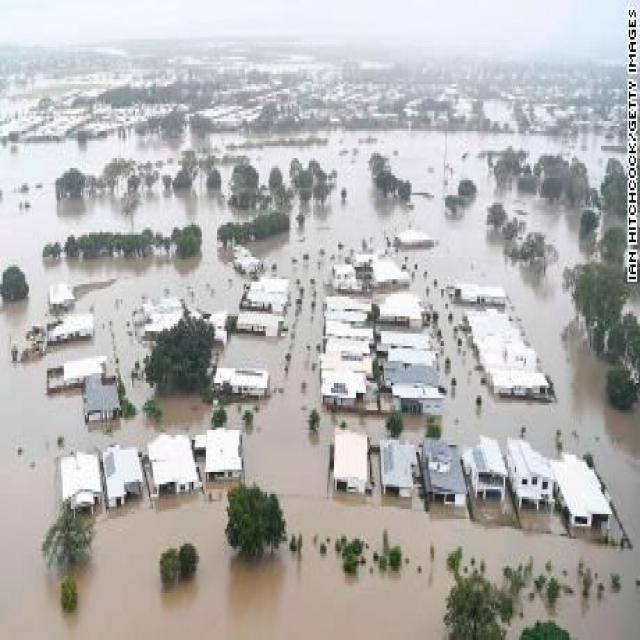flood: (0, 182, 640, 640), (0, 130, 625, 360), (323, 231, 630, 549), (625, 284, 640, 325)
house: (552, 451, 618, 530), (511, 430, 567, 520), (147, 430, 200, 502), (471, 436, 514, 510), (101, 445, 146, 513), (330, 426, 370, 500), (421, 438, 466, 502), (198, 425, 244, 486), (64, 449, 102, 516), (378, 440, 422, 496), (56, 353, 122, 388), (213, 364, 275, 400), (80, 372, 118, 426), (492, 367, 552, 398), (319, 373, 370, 408), (240, 276, 292, 310), (375, 293, 422, 330), (393, 384, 442, 418), (234, 310, 287, 338), (451, 283, 508, 308), (371, 255, 412, 288), (323, 320, 376, 345), (384, 344, 438, 368), (59, 312, 96, 344), (388, 227, 438, 250), (324, 354, 374, 376), (332, 262, 362, 292)
